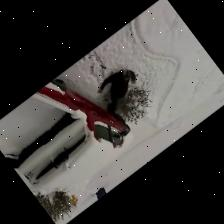person: (98, 69, 135, 110)
